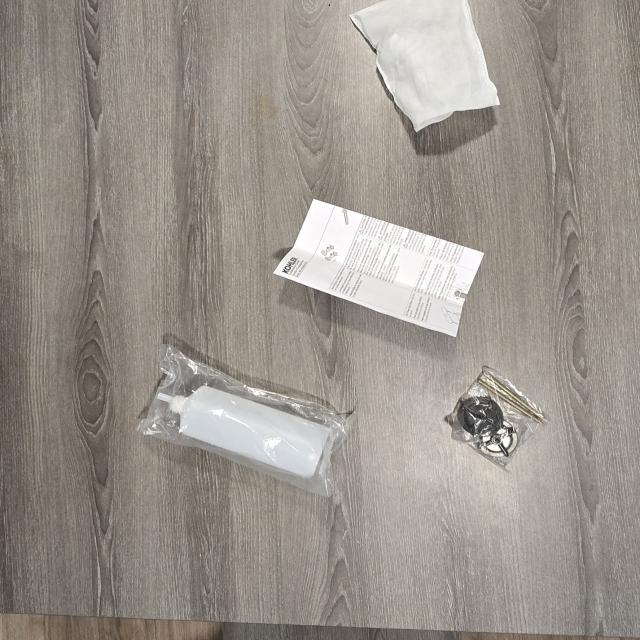2c: (350, 0, 499, 132)
3: (136, 344, 354, 496)
7: (444, 366, 547, 468)
8: (273, 199, 483, 336)
